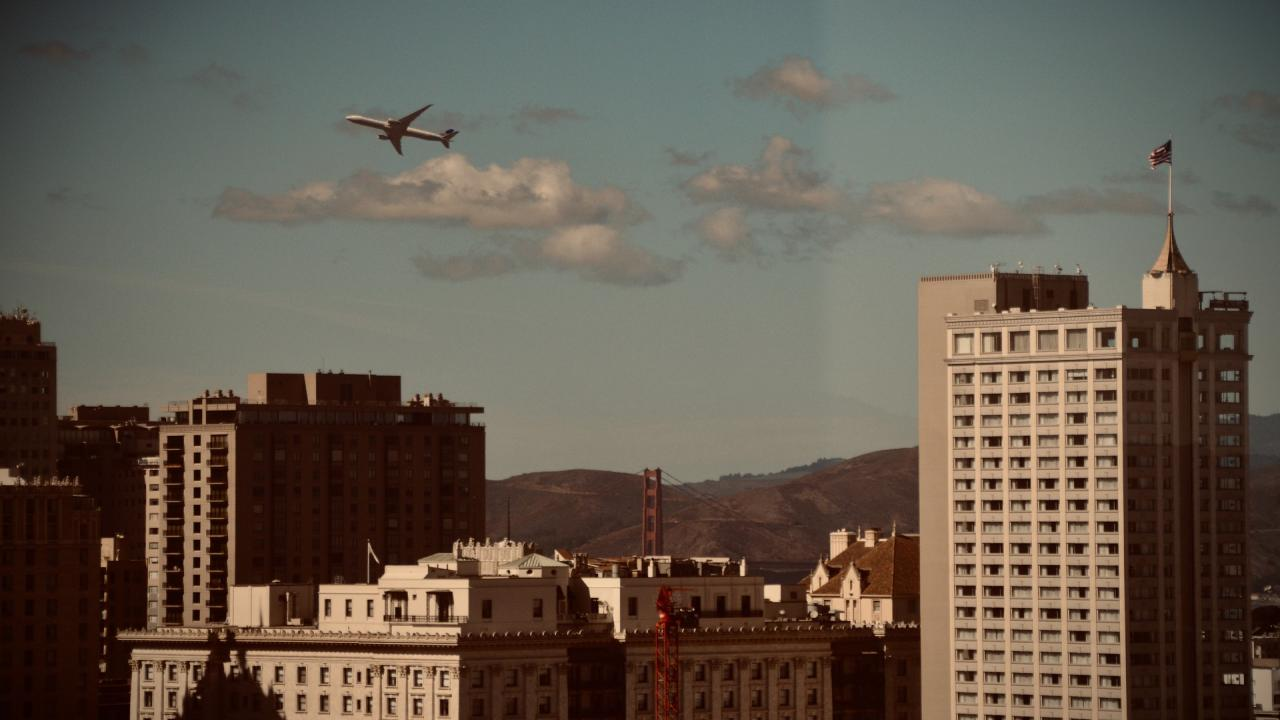Airplane: (328, 89, 476, 166)
